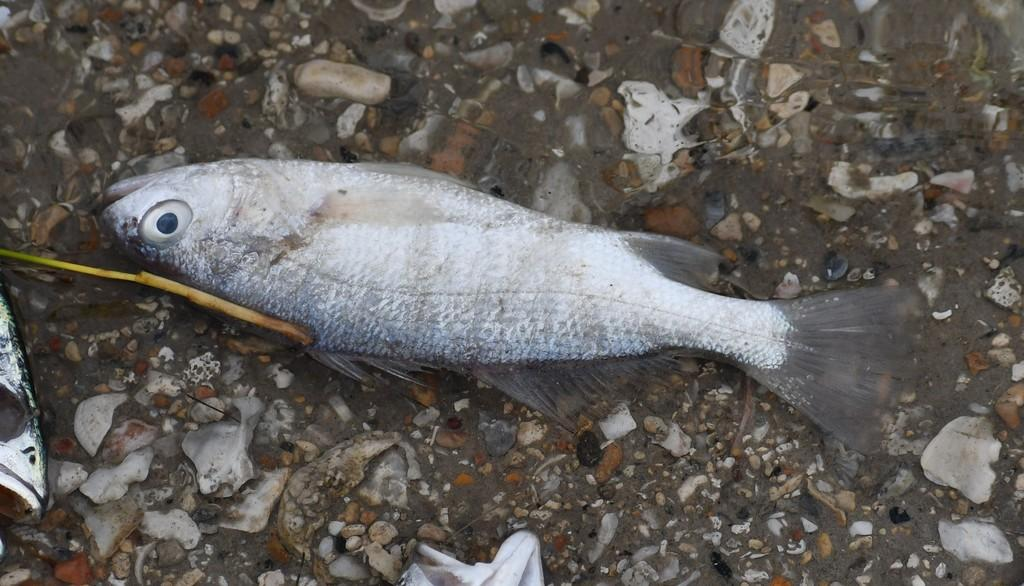Silver Perch: (101, 150, 934, 457)
